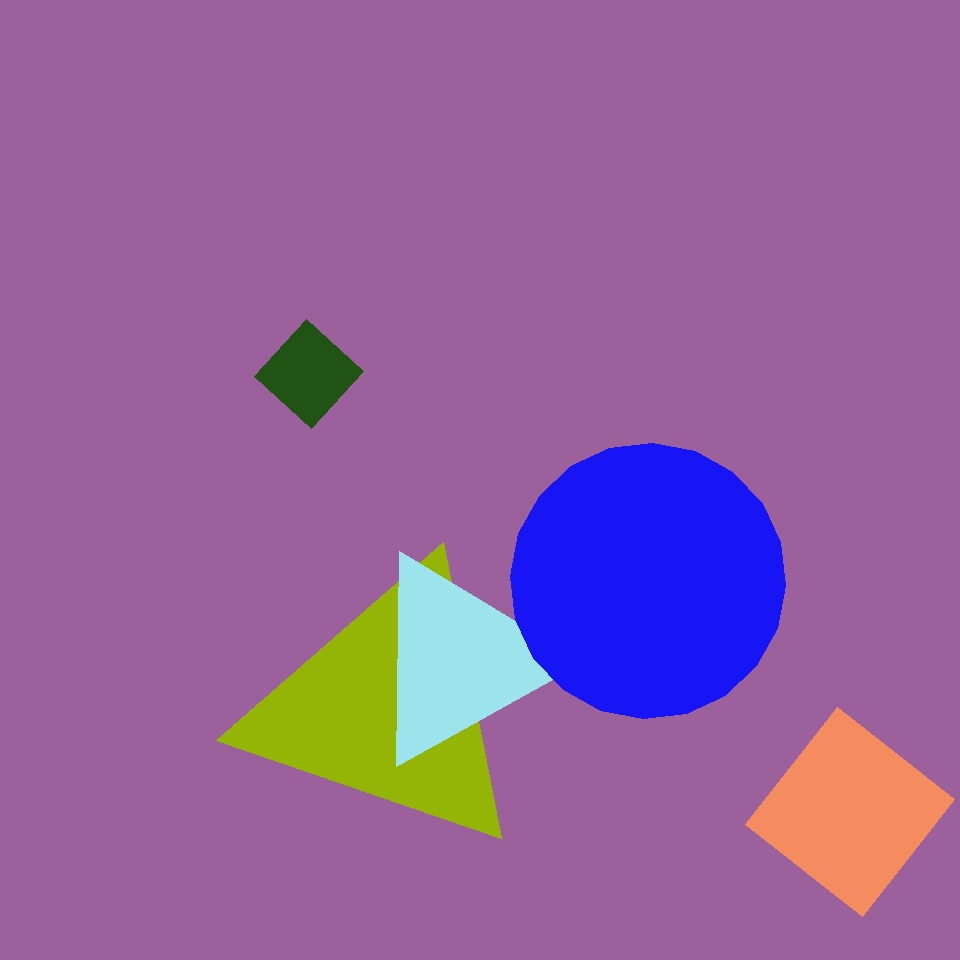circle: (244, 559, 530, 855), (366, 552, 554, 768)
square: (745, 708, 954, 916), (255, 320, 364, 428)
triangle: (511, 444, 786, 718)
